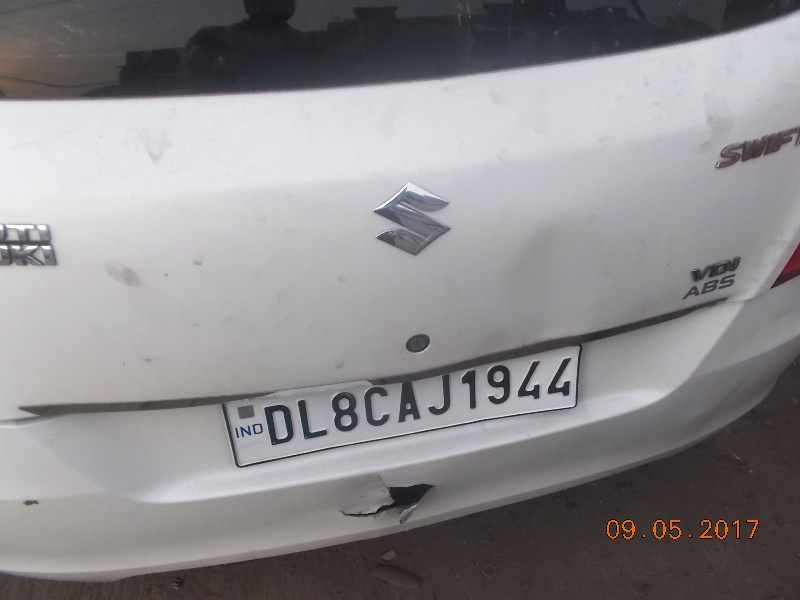Tear: (341, 475, 432, 533)
